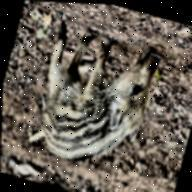boar: (23, 15, 170, 181)
